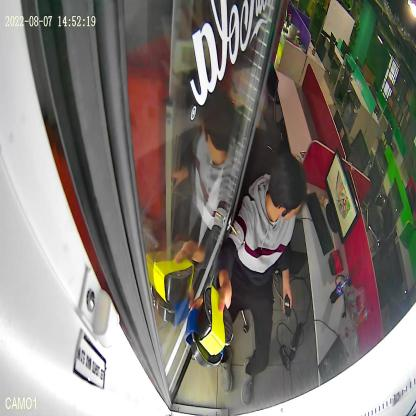blue: (185, 304, 224, 368)
yellow: (196, 285, 234, 356)
